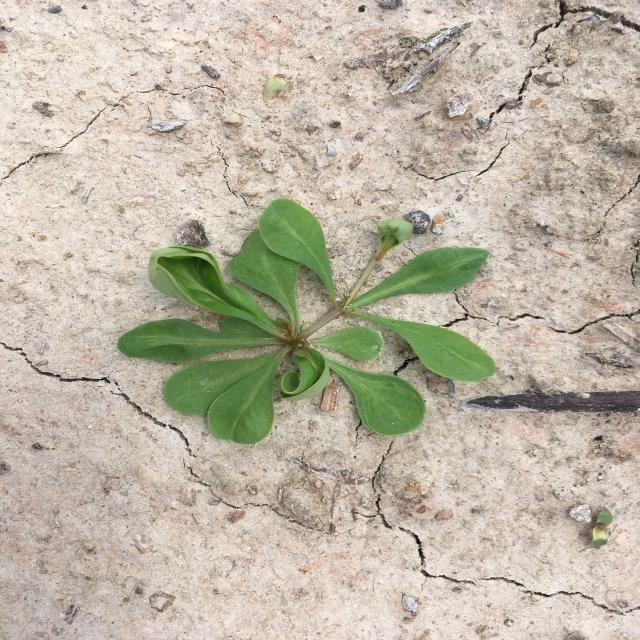Carpetweed: (116, 199, 496, 445)
